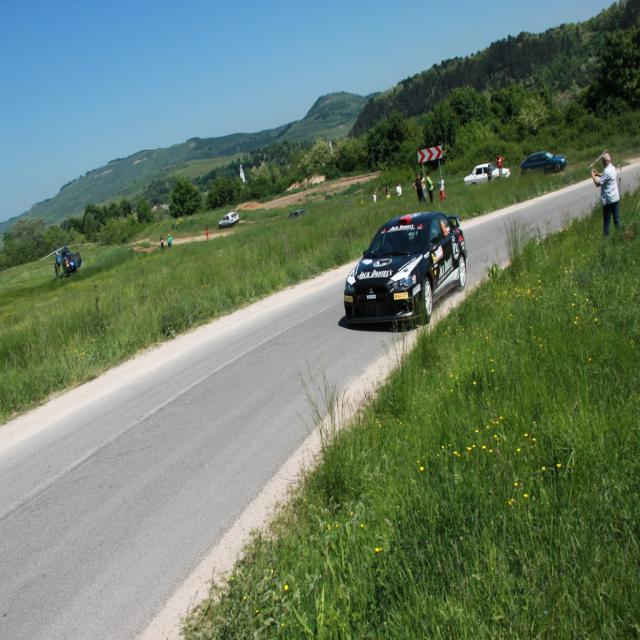car: (344, 187, 474, 328), (460, 156, 509, 183), (519, 150, 563, 170), (219, 206, 240, 232), (288, 208, 300, 219)
